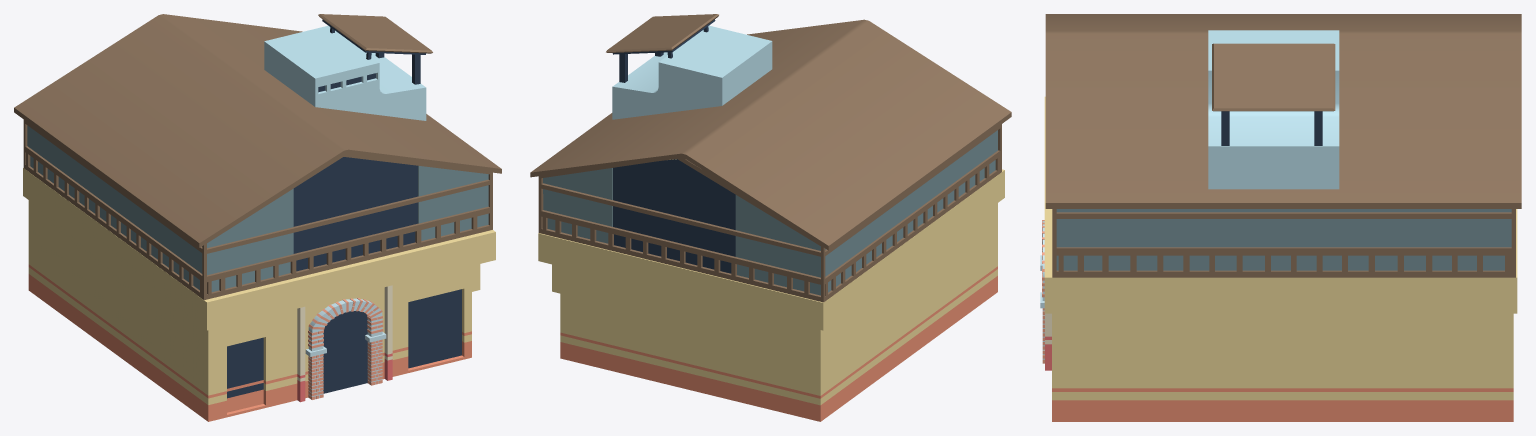
Rendered from MOR_TEP_CECINA.fbx.
3 renders of one model, left to right at view 1: azimuth 30°, elevation 25°; view 2: azimuth 150°, elevation 25°; view 3: azimuth 270°, elevation 25°, orthographic. The views are drawn at different scales.
Parts seen in each view (by area): view 1: Mor_Tep_Cecina_LOD0; view 2: Mor_Tep_Cecina_LOD0; view 3: Mor_Tep_Cecina_LOD0.
Boxes of the visible parts, x1,y1,x2,y2 form: Mor_Tep_Cecina_LOD0: (14,14,501,421); Mor_Tep_Cecina_LOD0: (530,14,1011,421); Mor_Tep_Cecina_LOD0: (1040,14,1521,421).
Size of what is drawn, in the model's own units: 692 by 599 by 743.
